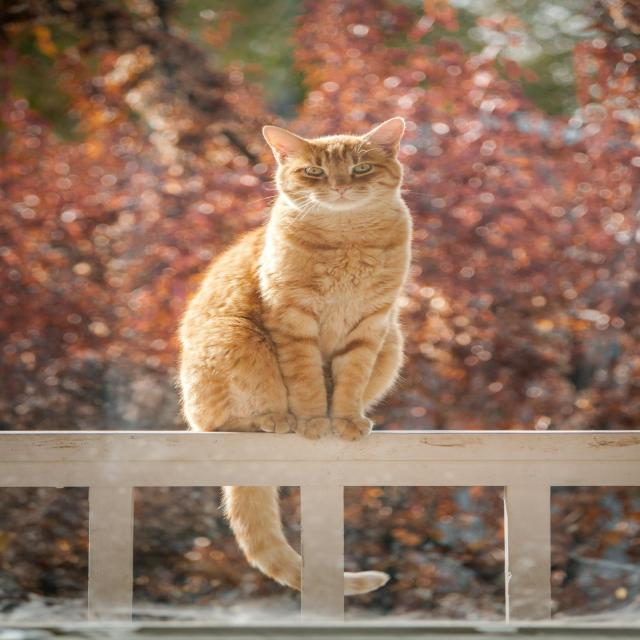Cat: (175, 116, 419, 596)
